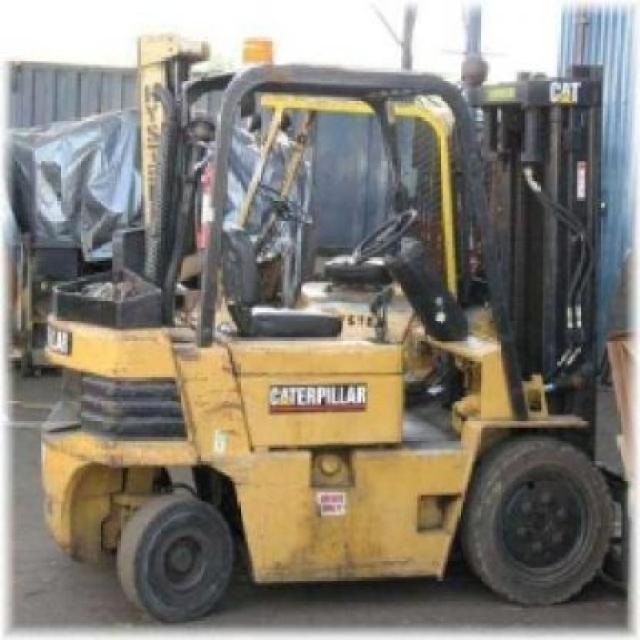forklift: (40, 23, 616, 623)
